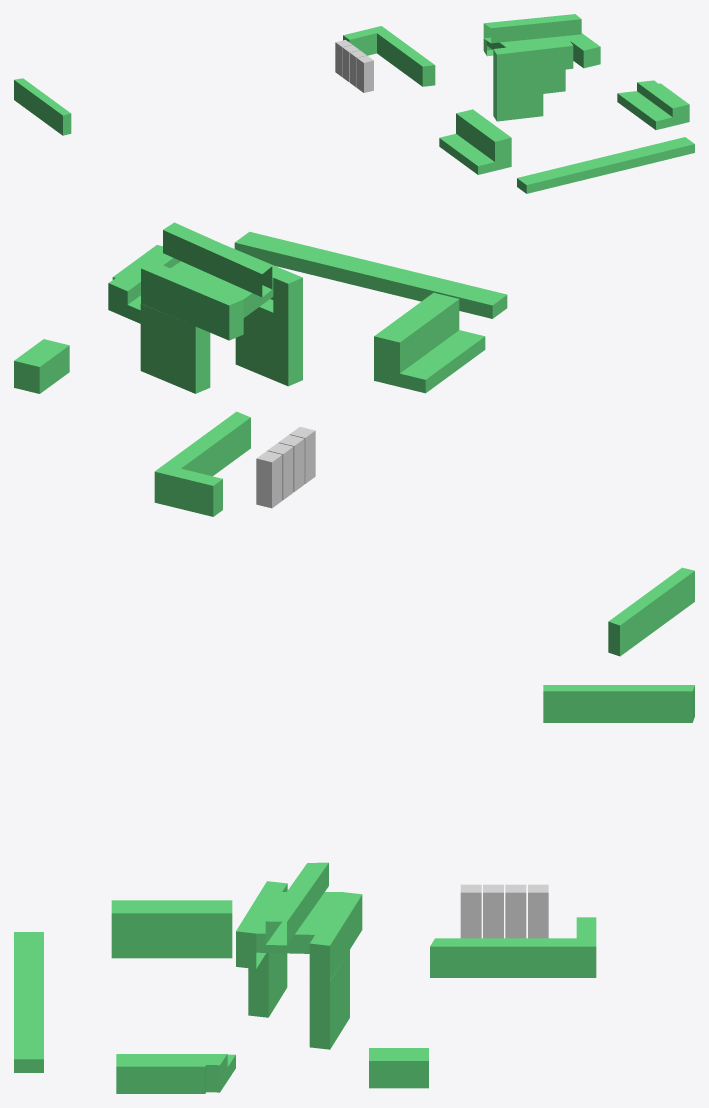
File: Plan_14_-_20.02_Ausbau.glb
3 renders of one model, top to bottom at view 1: azimuth 30°, elevation 25°; view 2: azimuth 150°, elevation 25°; view 3: azimuth 270°, elevation 25°, orthographic. The views are drawn at different scales.
Visible parts, largest first — view 1: Tribühne Seite, Schallschutz Decke, Pult Mainfloor Seite, Tresen Bar, Schallschutz Wand Main, Tresen Kasse, Pult Barfloor, Cube.003, Schallschutz Wand Bar, Cube, Cube.001; view 2: Schallschutz Decke, Tribühne Seite, Pult Mainfloor Seite, Tresen Bar, Schallschutz Wand Bar, Schallschutz Wand Main, Tresen Kasse, Pult Barfloor, Cube, Cube.001, Cube.002, Cube.003; view 3: Schallschutz Decke, Tribühne Seite, Pult Mainfloor Seite, Tresen Bar, Tresen Kasse, Schallschutz Wand Bar, Pult Barfloor, Schallschutz Wand Main, Cube.001, Cube.003, Cube, Cube.002.
Boxes of the visible parts, bbox=[...] form: Tribühne Seite: bbox=[517, 80, 694, 193]; Schallschutz Decke: bbox=[483, 14, 581, 77]; Pult Mainfloor Seite: bbox=[439, 109, 511, 174]; Tresen Bar: bbox=[343, 26, 435, 86]; Schallschutz Wand Main: bbox=[493, 72, 543, 121]; Tresen Kasse: bbox=[14, 78, 71, 135]; Pult Barfloor: bbox=[565, 33, 600, 68]; Cube.003: bbox=[357, 55, 373, 92]; Schallschutz Wand Bar: bbox=[543, 69, 565, 93]; Cube: bbox=[335, 40, 352, 77]; Cube.001: bbox=[342, 45, 359, 82]; Schallschutz Decke: bbox=[141, 222, 302, 340]; Tribühne Seite: bbox=[108, 231, 507, 323]; Pult Mainfloor Seite: bbox=[374, 292, 485, 393]; Tresen Bar: bbox=[154, 411, 250, 516]; Schallschutz Wand Bar: bbox=[140, 303, 210, 393]; Schallschutz Wand Main: bbox=[235, 299, 302, 386]; Tresen Kasse: bbox=[608, 567, 694, 656]; Pult Barfloor: bbox=[14, 339, 69, 393]; Cube: bbox=[256, 451, 282, 508]; Cube.001: bbox=[267, 443, 293, 500]; Cube.002: bbox=[278, 435, 304, 491]; Cube.003: bbox=[289, 427, 315, 483]; Schallschutz Decke: bbox=[236, 862, 362, 981]; Tribühne Seite: bbox=[14, 932, 235, 1093]; Pult Mainfloor Seite: bbox=[111, 900, 232, 958]; Tresen Bar: bbox=[430, 917, 596, 977]; Tresen Kasse: bbox=[543, 685, 694, 722]; Schallschutz Wand Bar: bbox=[309, 950, 349, 1049]; Pult Barfloor: bbox=[369, 1048, 428, 1088]; Schallschutz Wand Main: bbox=[248, 953, 287, 1017]; Cube.001: bbox=[505, 884, 526, 938]; Cube.003: bbox=[460, 884, 481, 938]; Cube: bbox=[528, 884, 548, 938]; Cube.002: bbox=[483, 884, 503, 938].
Size of the model in its own units: 29.04 by 4.66 by 22.58.
